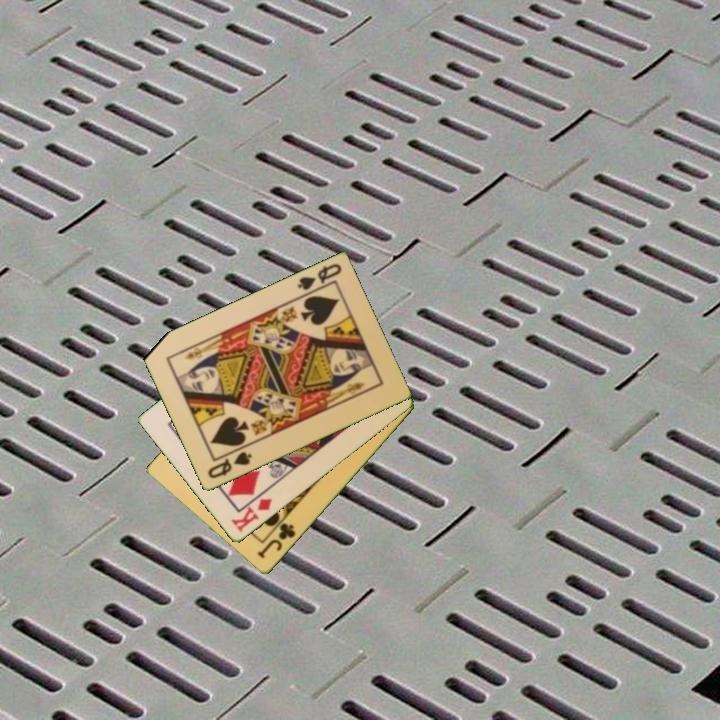Jc: (254, 520, 299, 562)
Kd: (227, 495, 275, 536)
Qs: (294, 260, 344, 299), (204, 448, 255, 482)
